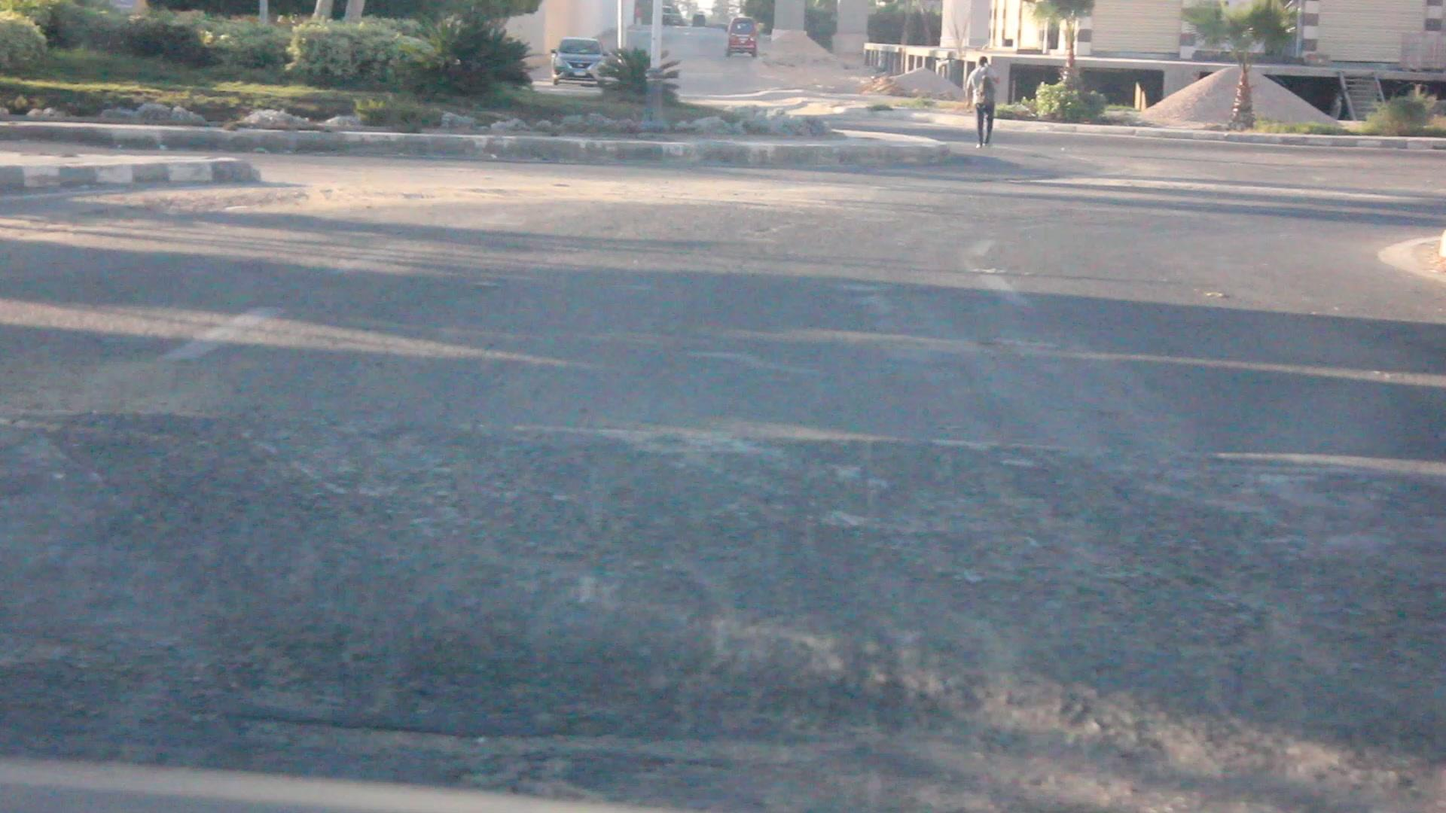Bump: (4, 399, 1446, 813)
